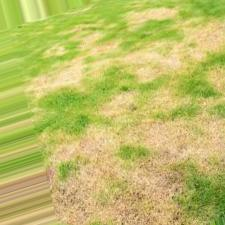patch: (125, 176, 172, 224), (58, 183, 101, 223), (144, 129, 191, 155), (188, 30, 222, 55), (86, 148, 122, 171), (51, 66, 82, 84), (202, 124, 221, 152), (150, 94, 180, 111), (138, 55, 166, 72), (119, 99, 144, 118), (105, 182, 122, 209), (130, 14, 159, 25), (58, 150, 82, 162), (87, 136, 110, 144)
